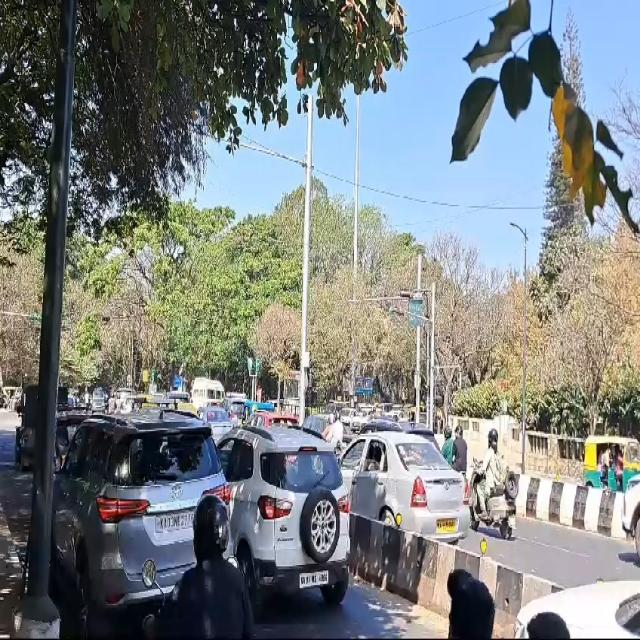cars: (45, 403, 234, 631), (213, 414, 353, 615), (333, 429, 473, 553)
